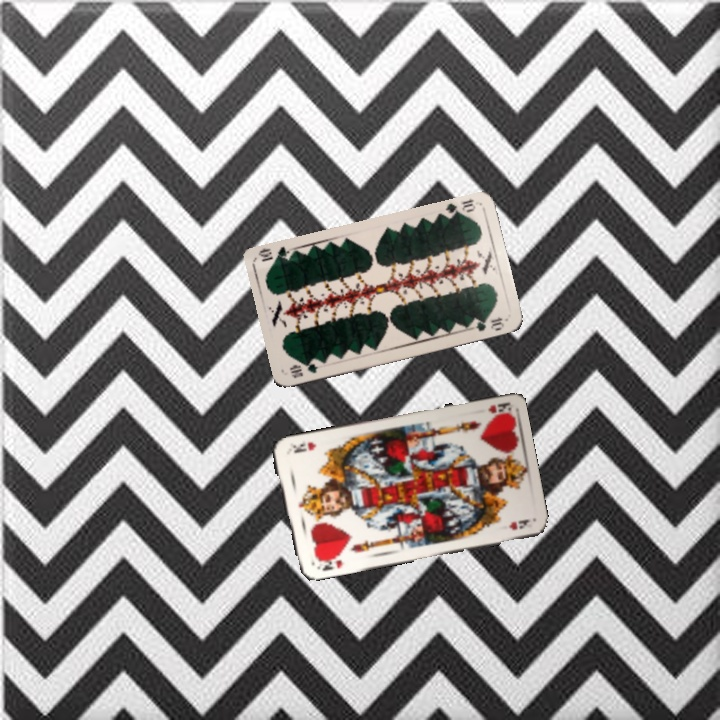G10: (441, 195, 478, 221), (286, 359, 320, 381)
HK: (313, 551, 346, 574), (484, 398, 511, 418)
